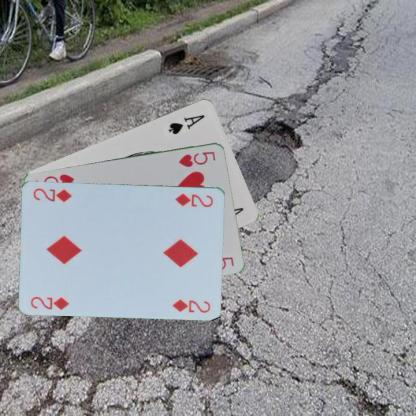2d: (28, 293, 70, 311), (173, 190, 214, 208)
5h: (176, 149, 217, 168)
As: (166, 111, 206, 136)
